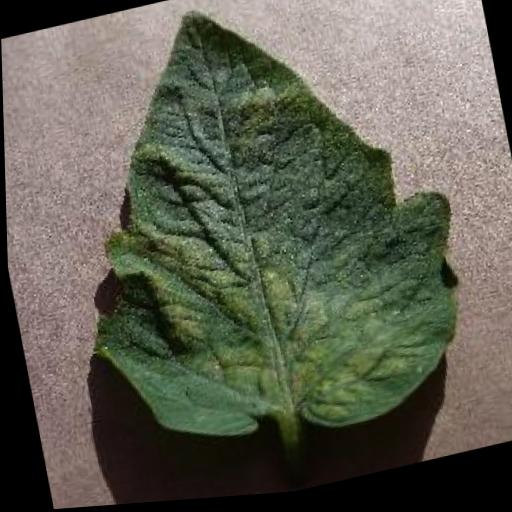Spider Mites: (35, 0, 486, 489)
